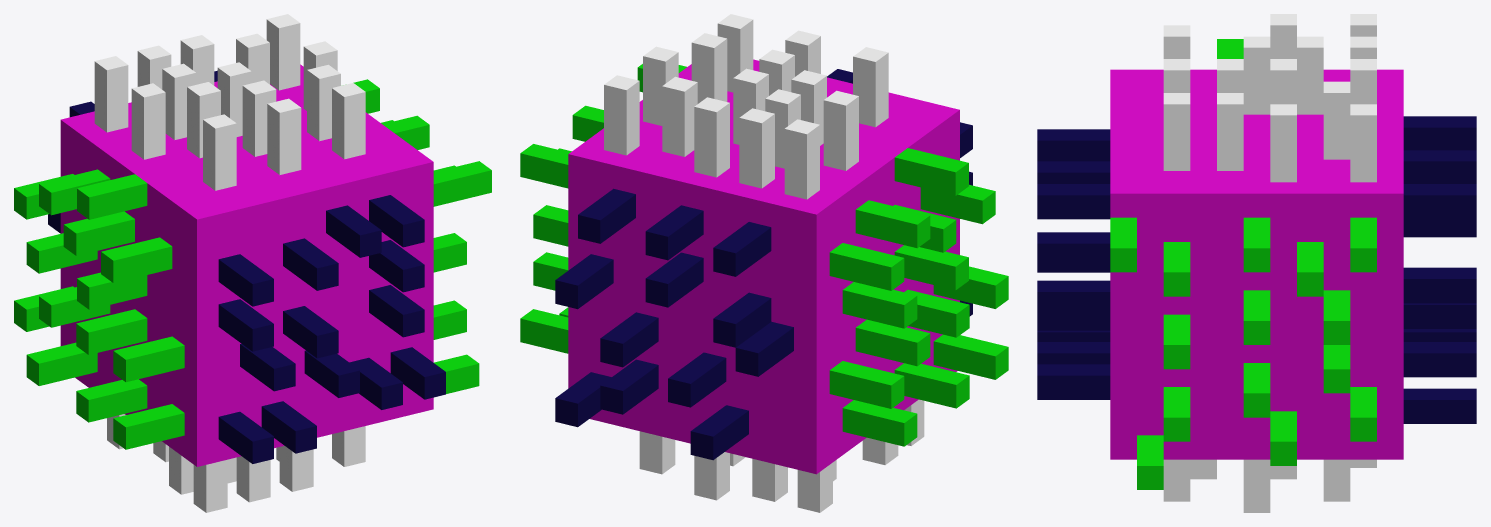
File: планета 9.dae
3 renders of one model, left to right at view 1: azimuth 30°, elevation 25°; view 2: azimuth 150°, elevation 25°; view 3: azimuth 270°, elevation 25°, orthographic. The views are drawn at different scales.
Visible parts, largest first — view 1: Cube; view 2: Cube; view 3: Cube.
Part boxes in pixels (x1=…): Cube: x1=14, y1=14, x2=491, y2=512; Cube: x1=520, y1=14, x2=1008, y2=512; Cube: x1=1037, y1=14, x2=1476, y2=512.
Bounding box in the file's own units: 2.99 × 3 × 2.99.
